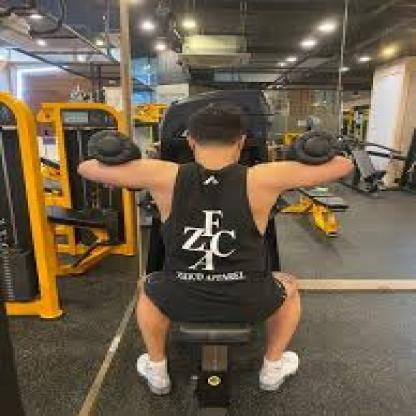lateral raises machine: (79, 128, 340, 416)
